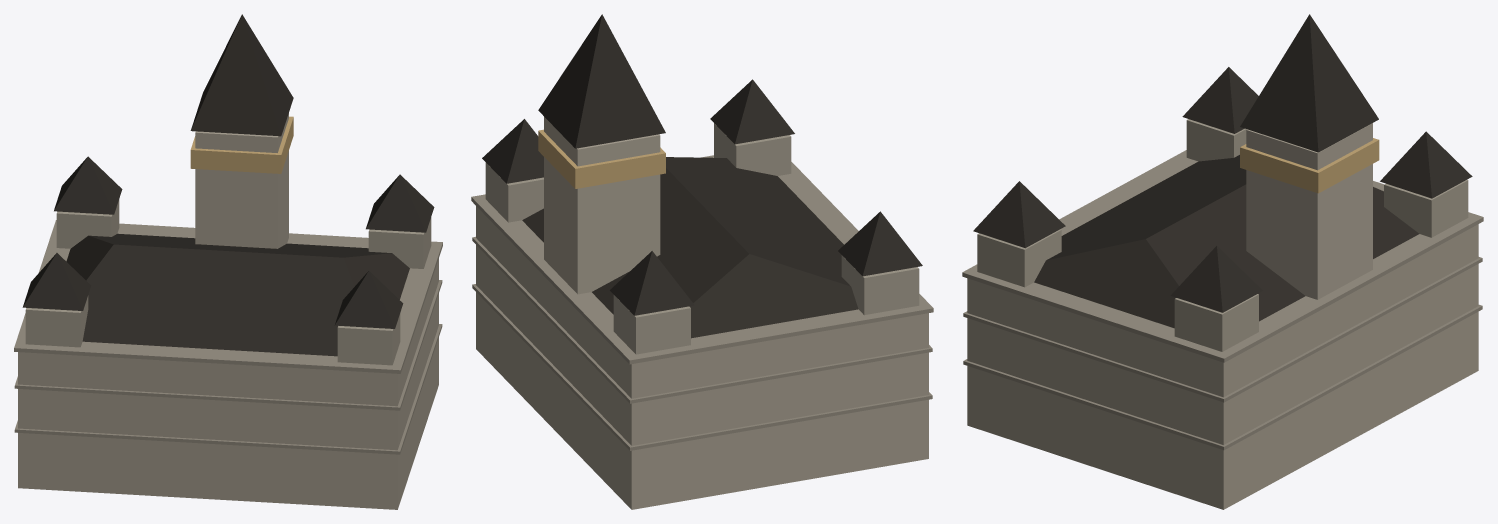
File: old-city-hall.glb
3 renders of one model, left to right at view 1: azimuth 30°, elevation 25°; view 2: azimuth 150°, elevation 25°; view 3: azimuth 270°, elevation 25°, orthographic. The views are drawn at different scales.
Visible parts, largest first — view 1: body, old-city-hall_4, old-city-hall_1, tower, old-city-hall_15, old-city-hall_12, old-city-hall_8, old-city-hall_6, old-city-hall_10, old-city-hall_2, old-city-hall_3, old-city-hall_14 (+4 smaller); view 2: body, old-city-hall_4, tower, old-city-hall_1, old-city-hall_15, old-city-hall_11, old-city-hall_14, old-city-hall_12, old-city-hall_10, old-city-hall_6, old-city-hall_9, old-city-hall_2 (+4 smaller); view 3: body, old-city-hall_4, tower, old-city-hall_1, old-city-hall_15, old-city-hall_7, old-city-hall_14, old-city-hall_12, old-city-hall_6, old-city-hall_8, old-city-hall_11, old-city-hall_2 (+4 smaller).
Part boxes in pixels (x1=…): body: x1=18, y1=258, x2=438, y2=509; old-city-hall_4: x1=66, y1=233, x2=409, y2=356; old-city-hall_1: x1=14, y1=220, x2=442, y2=373; tower: x1=195, y1=113, x2=288, y2=248; old-city-hall_15: x1=190, y1=14, x2=293, y2=136; old-city-hall_12: x1=54, y1=156, x2=122, y2=214; old-city-hall_8: x1=366, y1=174, x2=434, y2=232; old-city-hall_6: x1=334, y1=271, x2=403, y2=328; old-city-hall_10: x1=22, y1=253, x2=91, y2=310; old-city-hall_2: x1=14, y1=324, x2=442, y2=454; old-city-hall_3: x1=14, y1=280, x2=442, y2=410; old-city-hall_14: x1=190, y1=116, x2=293, y2=173; body: x1=476, y1=206, x2=928, y2=509; old-city-hall_4: x1=522, y1=157, x2=858, y2=338; tower: x1=544, y1=117, x2=660, y2=294; old-city-hall_1: x1=471, y1=155, x2=933, y2=364; old-city-hall_15: x1=538, y1=14, x2=665, y2=148; old-city-hall_11: x1=613, y1=295, x2=690, y2=354; old-city-hall_14: x1=538, y1=129, x2=665, y2=188; old-city-hall_12: x1=610, y1=251, x2=694, y2=315; old-city-hall_10: x1=838, y1=211, x2=922, y2=276; old-city-hall_6: x1=710, y1=79, x2=794, y2=144; old-city-hall_9: x1=841, y1=255, x2=919, y2=315; old-city-hall_2: x1=472, y1=284, x2=932, y2=450; body: x1=967, y1=224, x2=1478, y2=509; old-city-hall_4: x1=1034, y1=155, x2=1418, y2=328; tower: x1=1246, y1=123, x2=1372, y2=299; old-city-hall_1: x1=962, y1=150, x2=1483, y2=362; old-city-hall_15: x1=1240, y1=14, x2=1378, y2=152; old-city-hall_7: x1=1174, y1=294, x2=1258, y2=351; old-city-hall_14: x1=1240, y1=138, x2=1379, y2=193; old-city-hall_12: x1=1380, y1=131, x2=1472, y2=198; old-city-hall_6: x1=973, y1=181, x2=1065, y2=248; old-city-hall_8: x1=1170, y1=246, x2=1262, y2=312; old-city-hall_11: x1=1384, y1=180, x2=1468, y2=237; old-city-hall_2: x1=963, y1=304, x2=1482, y2=450.
Size of the model in its own units: 71.66 by 60.5 by 69.31.
